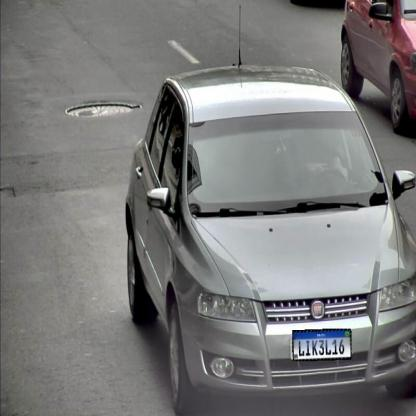PlacaM: (292, 329, 352, 361)
